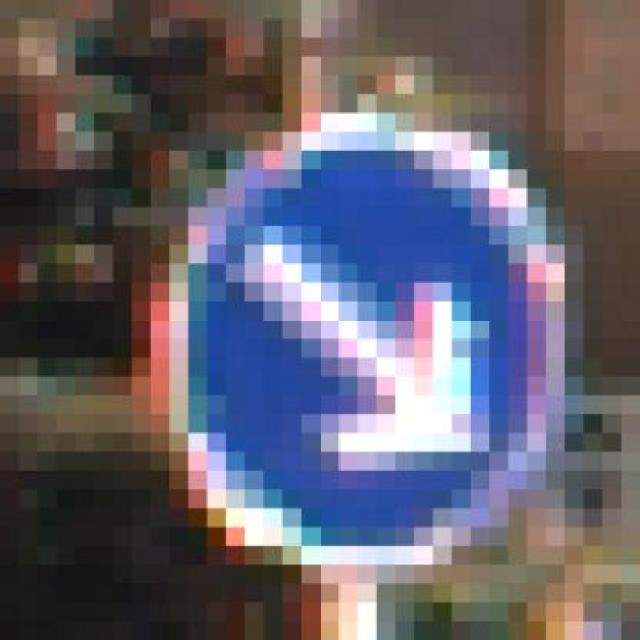Keep-Right: (113, 75, 602, 602)
